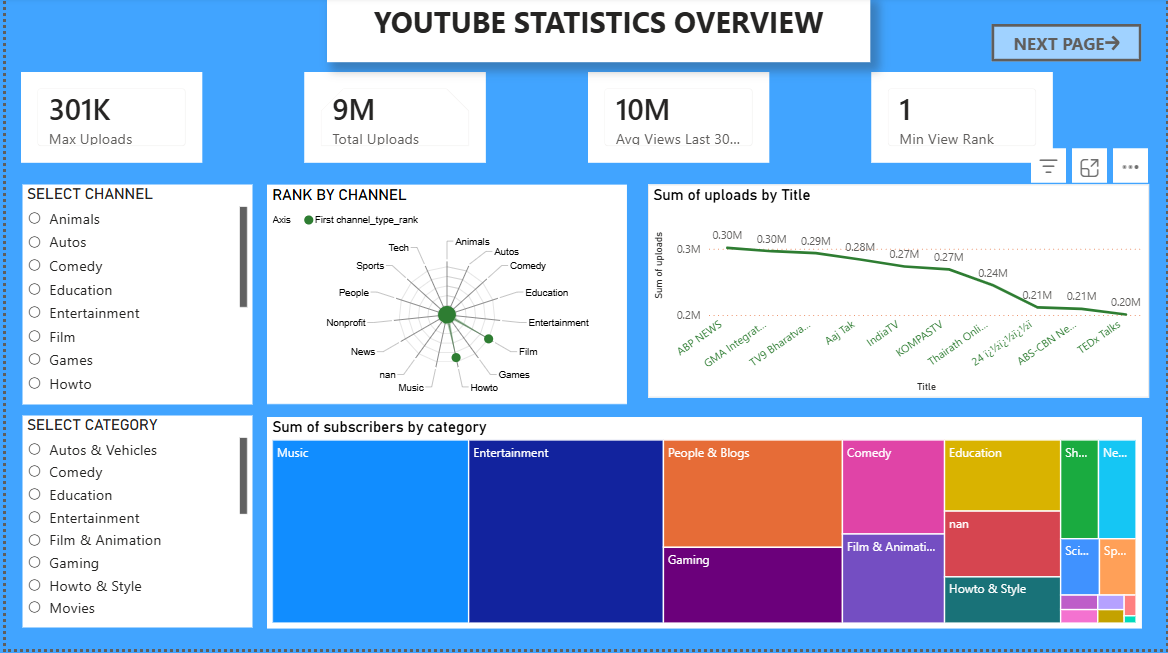

Layout of this report page (visuals, bound fields, positions):
{"tool":"powerbi","page":{"name":"YOUTUBE VIEW ANALYSIS OVERVIEW DASHBOARD ","canvas":[1280,720],"ordinal":0},"visuals":[{"type":"cardVisual","fields":{"Data":["Global YouTube Statistics.Max Uploads"]},"box":[16.7,83.3,200,100],"z":0},{"type":"cardVisual","fields":{"Data":["Global YouTube Statistics.Min View Rank"]},"box":[955,83.3,200,100],"z":1000},{"type":"cardVisual","fields":{"Data":["Global YouTube Statistics.Avg Views Last 30 Days"]},"box":[642.2,83.3,200,100],"z":2000},{"type":"cardVisual","fields":{"Data":["Global YouTube Statistics.Total Uploads"]},"box":[329.4,83.3,200,100],"z":3000},{"type":"lineChart","fields":{"Category":["Global YouTube Statistics.Title"],"Y":["Sum(Global YouTube Statistics.uploads)"]},"box":[709,207.1,553.3,235.2],"z":4000},{"type":"treemap","fields":{"Group":["Global YouTube Statistics.category"],"Values":["Sum(Global YouTube Statistics.subscribers)"]},"box":[288.2,463.8,965.7,233.6],"z":5000},{"type":"RadarChart1446119667547","title":"RANK BY CHANNEL","fields":{"Category":["Global YouTube Statistics.channel_type"],"Y":["Min(Global YouTube Statistics.channel_type_rank)"]},"box":[288.2,207.1,397.6,241.8],"z":6000},{"type":"textbox","box":[355,0,600,71.7],"z":7000},{"type":"listSlicer","title":"SELECT CHANNEL","fields":{"Values":["Global YouTube Statistics.channel_type"]},"box":[18.2,207.1,253.4,241.8],"z":8000},{"type":"listSlicer","title":"SELECT CATEGORY","fields":{"Values":["Global YouTube Statistics.category"]},"box":[18.2,462.2,253.4,233.6],"z":9000},{"type":"actionButton","box":[1088.3,29.8,165.6,41.4],"z":10000}]}

Visuals, with their boxes in screenshot pixels (x1, y1, x2, y2), scaled from the page's 1280x720 canvas onto the 1168x653 screenshot:
cardVisual - Global YouTube Statistics.Max Uploads: <box>15,76,198,166</box>
cardVisual - Global YouTube Statistics.Min View Rank: <box>871,76,1054,166</box>
cardVisual - Global YouTube Statistics.Avg Views Last 30 Days: <box>586,76,769,166</box>
cardVisual - Global YouTube Statistics.Total Uploads: <box>301,76,483,166</box>
lineChart - Global YouTube Statistics.Title x Sum(Global YouTube Statistics.uploads): <box>647,188,1152,401</box>
treemap - Global YouTube Statistics.category x Sum(Global YouTube Statistics.subscribers): <box>263,421,1144,633</box>
"RANK BY CHANNEL" RadarChart1446119667547: <box>263,188,626,407</box>
textbox: <box>324,0,871,65</box>
"SELECT CHANNEL" listSlicer: <box>17,188,248,407</box>
"SELECT CATEGORY" listSlicer: <box>17,419,248,631</box>
actionButton: <box>993,27,1144,65</box>
